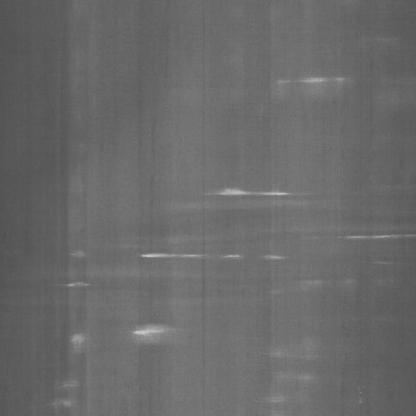waist_folding: (54, 63, 398, 378)
